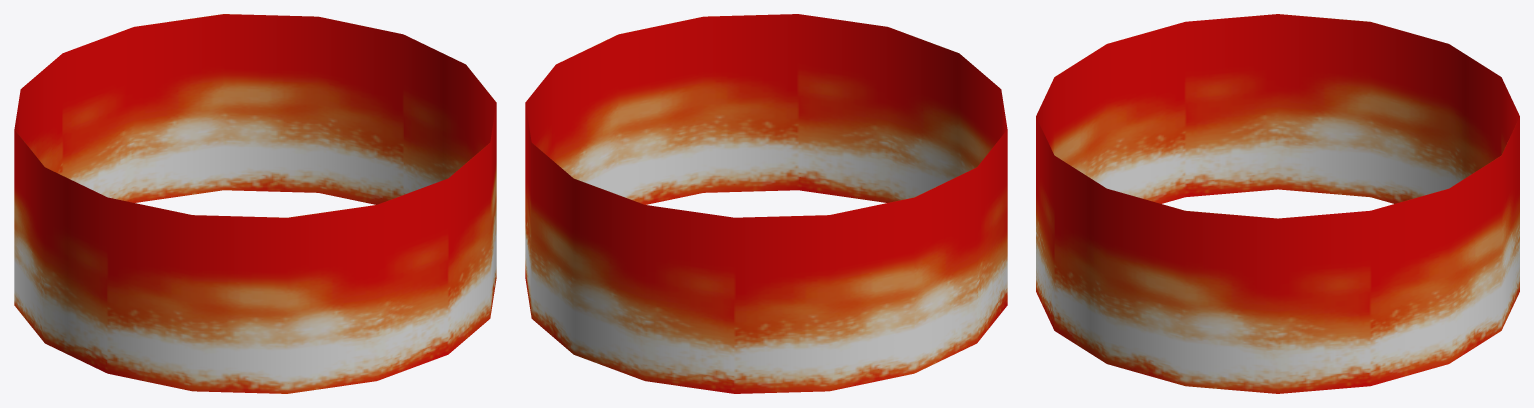
File: godclient_cylinder_05m.fbx
The picture shows the model from 3 angles, left to right: view 1: azimuth 30°, elevation 25°; view 2: azimuth 150°, elevation 25°; view 3: azimuth 270°, elevation 25°; orthographic projection.
Visible parts, largest first — view 1: mesh_node; view 2: mesh_node; view 3: mesh_node.
Part boxes in pixels (bbox=[...]): mesh_node: bbox=[14, 14, 496, 393]; mesh_node: bbox=[525, 14, 1007, 393]; mesh_node: bbox=[1036, 14, 1519, 393].
Bounding box in the file's own units: 5 × 2 × 5.
Materials: 1 (1 with a texture image).
